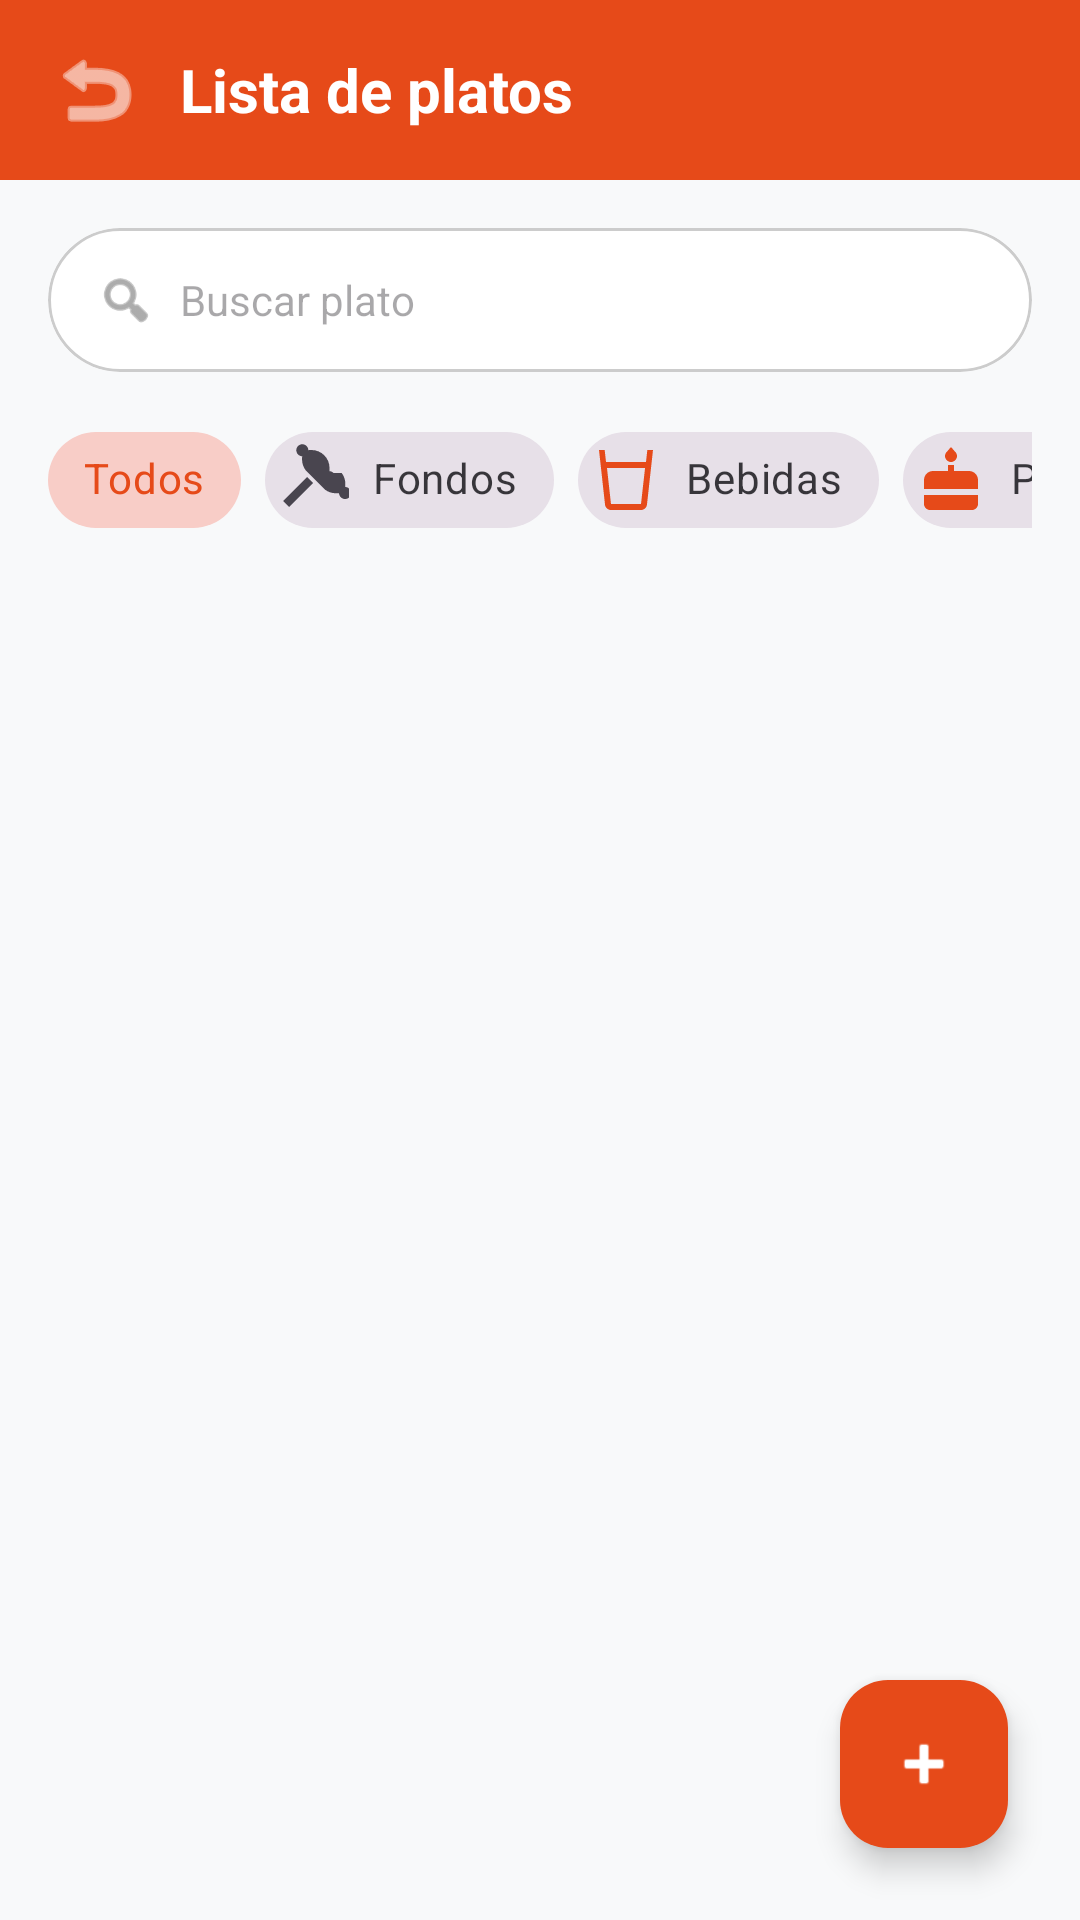

Locate icon controls on the screen. Image size 1080×1920, boxes as (x1, y1, x2, y2).
add: (840, 1680, 1008, 1848)
revert: (63, 59, 132, 122)
search: (104, 278, 148, 322)
